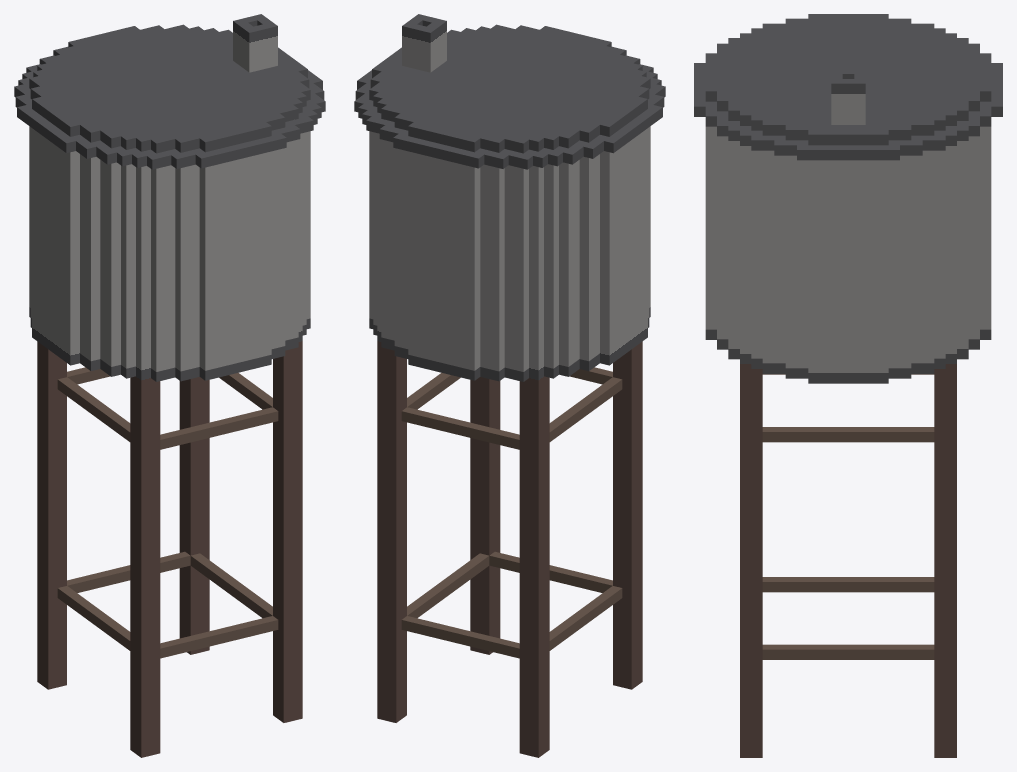
Rendered from tank.fbx.
3 views of the same model, side by side, from view 1: azimuth 30°, elevation 25°; view 2: azimuth 150°, elevation 25°; view 3: azimuth 270°, elevation 25° (orthographic). The views are drawn at different scales.
Parts seen in each view (by area): view 1: tank_0; view 2: tank_0; view 3: tank_0.
Part boxes in pixels (x1,y1,x2,y2): tank_0: [14, 14, 325, 757]; tank_0: [354, 14, 665, 757]; tank_0: [694, 14, 1002, 757].
Bounding box in the file's own units: 2700 × 2700 × 6600.
